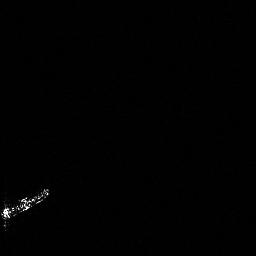ship: (2, 188, 50, 219)
